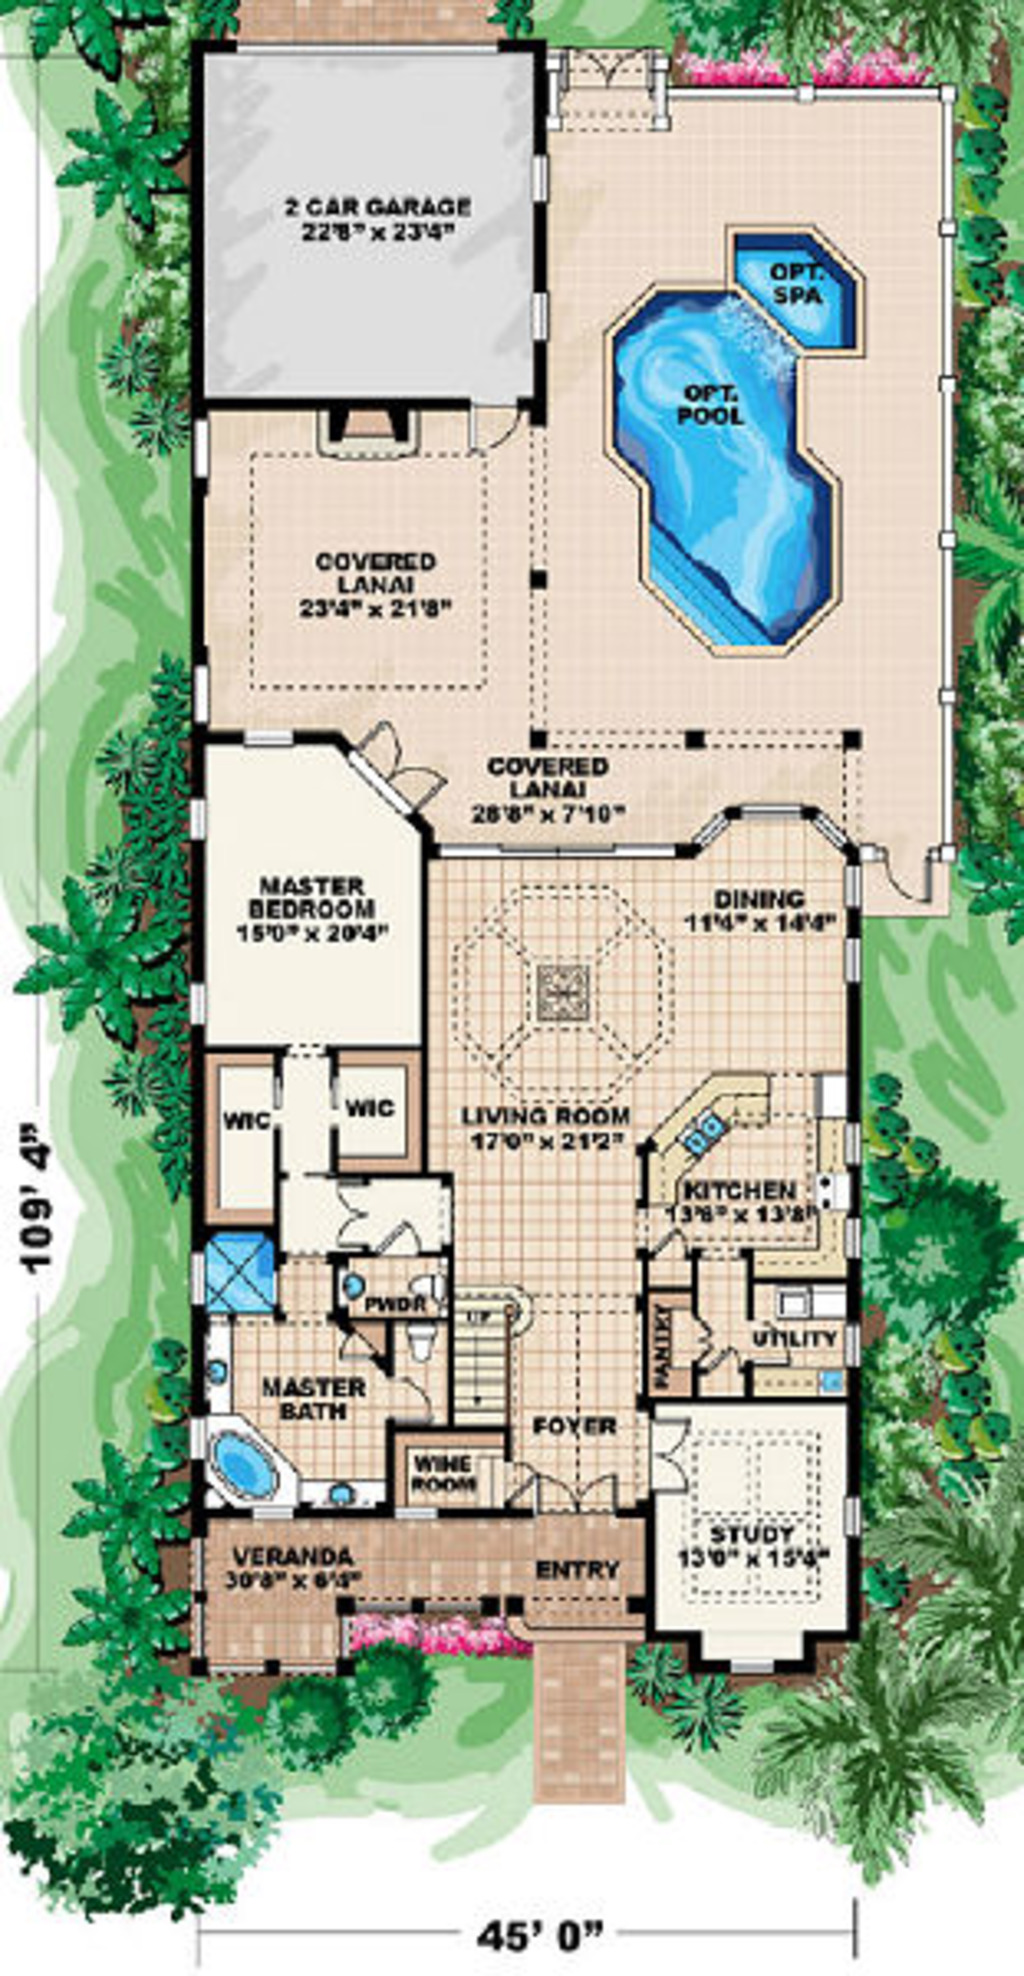door: (355, 710, 453, 819), (653, 1410, 701, 1507), (330, 1185, 377, 1266), (526, 1474, 626, 1512), (887, 842, 947, 902)
small_sink: (289, 1478, 372, 1511)
tub: (199, 1426, 289, 1524)
